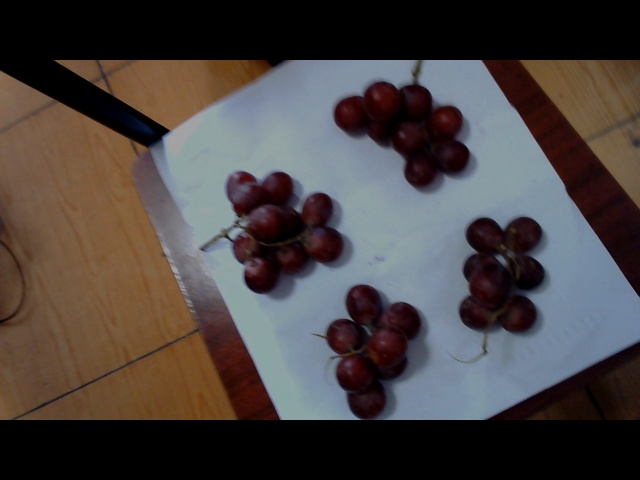grape: (335, 65, 490, 193), (215, 155, 353, 287), (304, 278, 427, 417), (451, 203, 554, 341)
